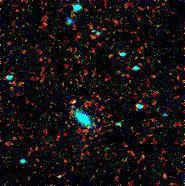star: (58, 89, 88, 119)
